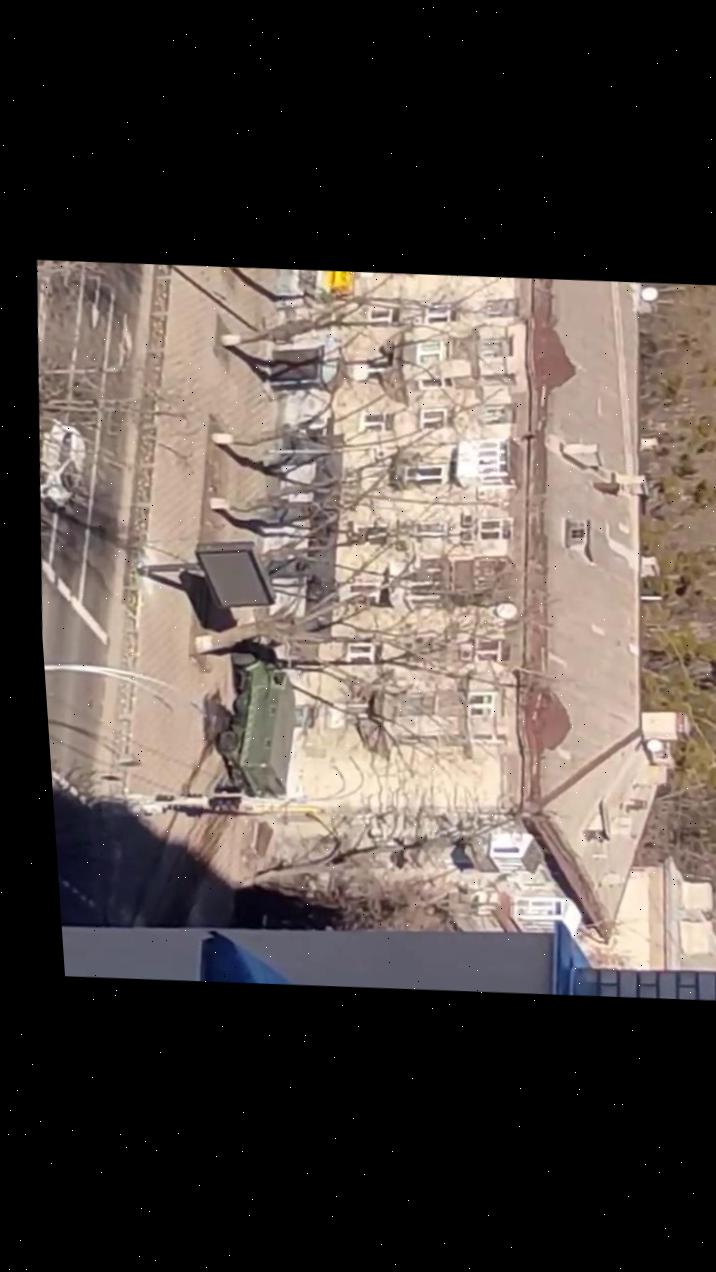car: (34, 415, 89, 510)
truck: (205, 637, 304, 799)
